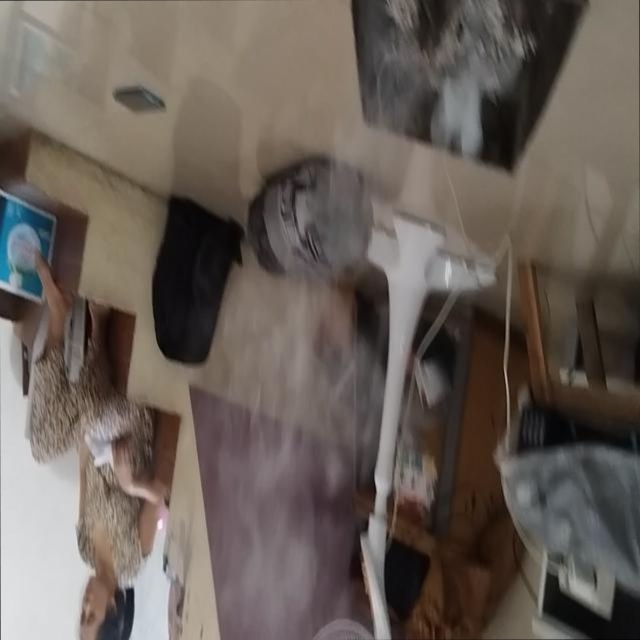smoke: (387, 45, 523, 186)
